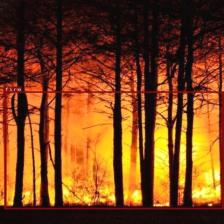fire: (4, 91, 223, 209)
